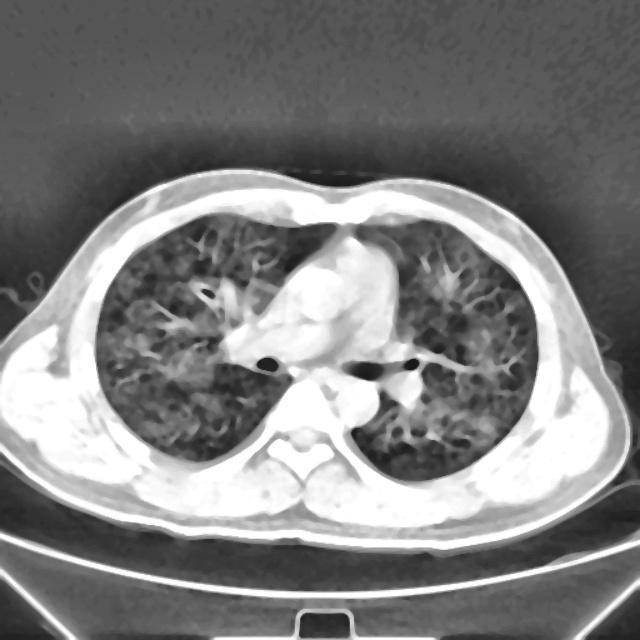covid: (1, 167, 633, 555)
